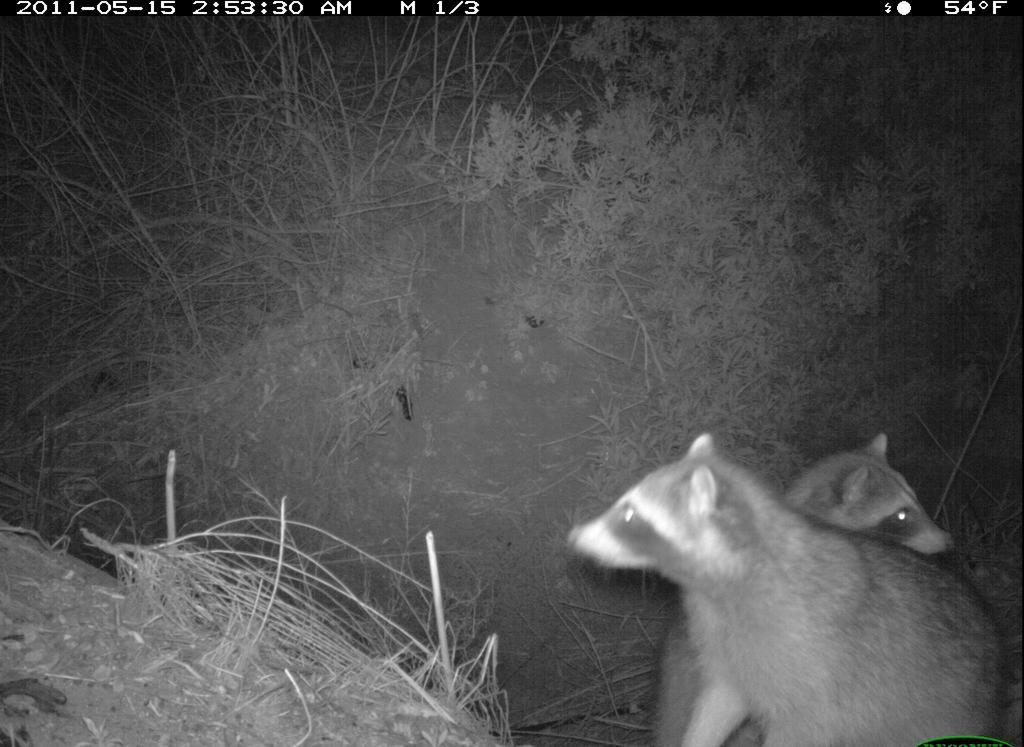raccoon: (551, 410, 1015, 747)
